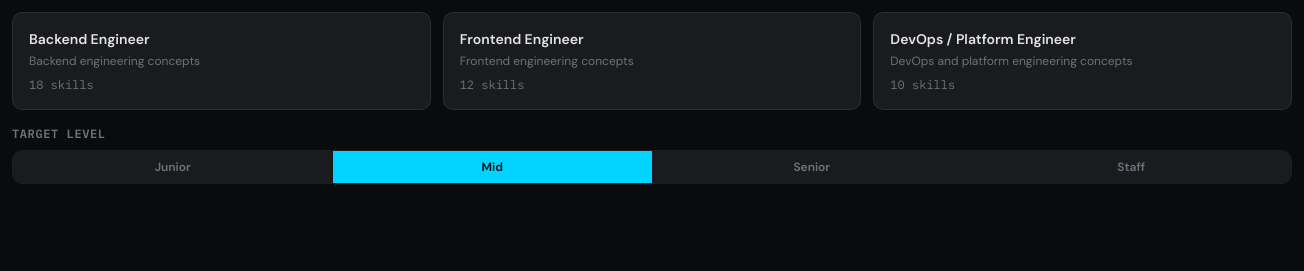
RoleSelector › shows non-blocking error when getRole fails
What coordinates should you click on to do the following:
click the heading "Backend Engineer"
I would click on:
 (89, 39)
Its box is [29,30,150,48].
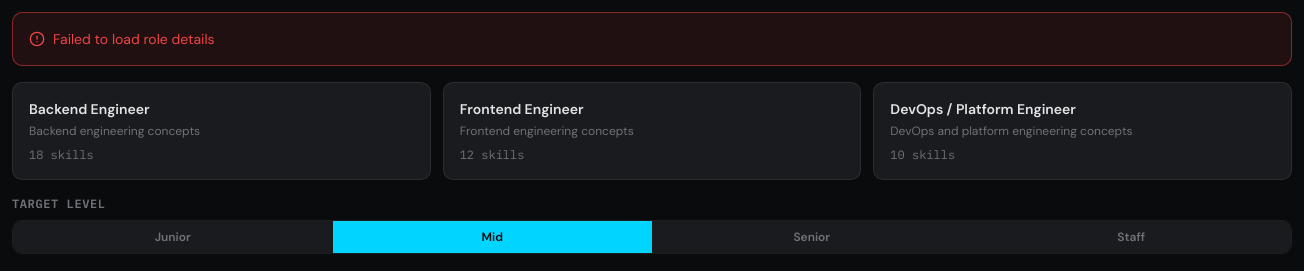
Expected: the heading "Backend Engineer" is shown, [29,100,150,118]
Expected: the text "Failed to load role details" is shown, [53,30,214,48]
